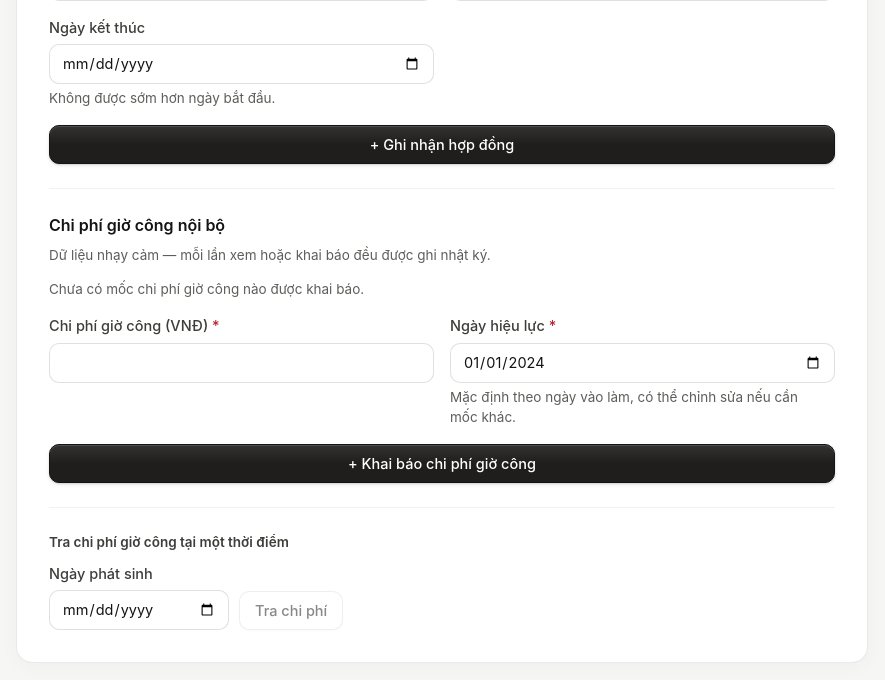
Test: EmployeeDetailPage — Chi phí giờ công nội bộ (NCL-07-CN-004) › chặn phía client khi để trống chi phí giờ công, không gọi API tạo
(page scrolled)
Expected: the element with test id "hourly-rate-section" is shown, [49,213,835,630]
Click the button "+ Khai báo chi phí giờ công": (442, 463) [49,444,835,483]
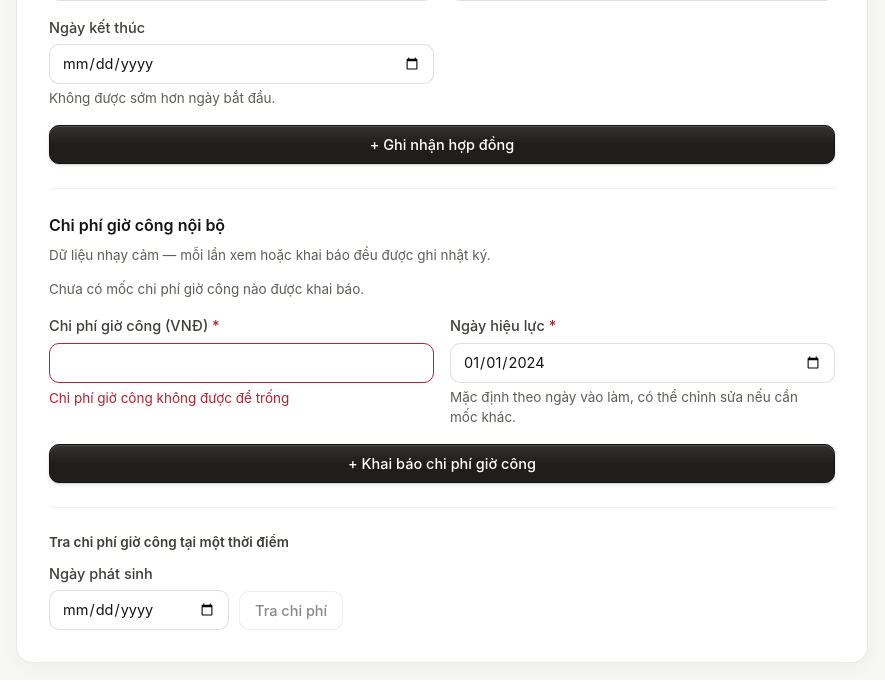
Now the text "Chi phí giờ công không được để trống" is shown, box [49,390,289,406]
